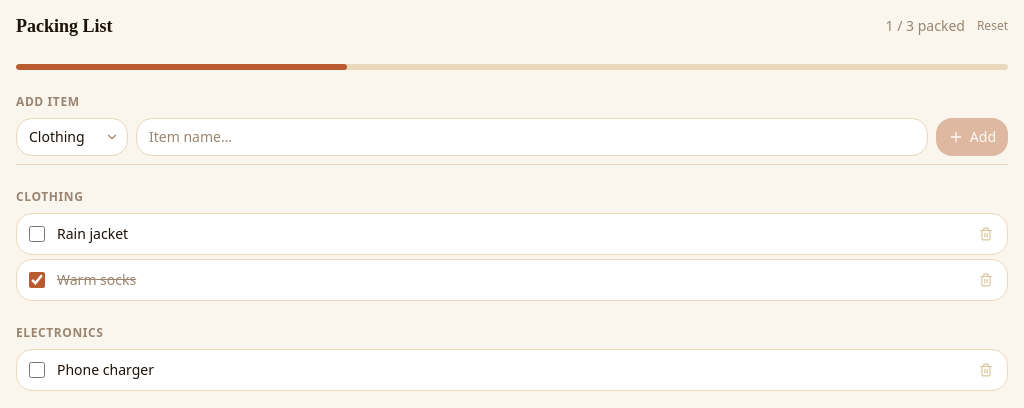
Scenario: ChecklistTab › updates the progress counter after checking an item
The width and height of the screenshot is (1024, 408).
Click the checkbox labelled "Rain jacket": (37, 234) [29, 226, 45, 242]
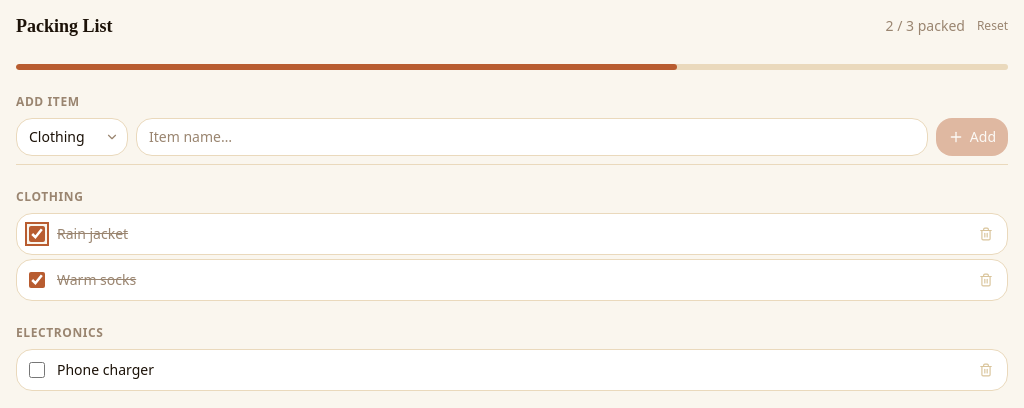
Expected: the text "2 / 3 packed" is shown, [886, 16, 965, 36]
